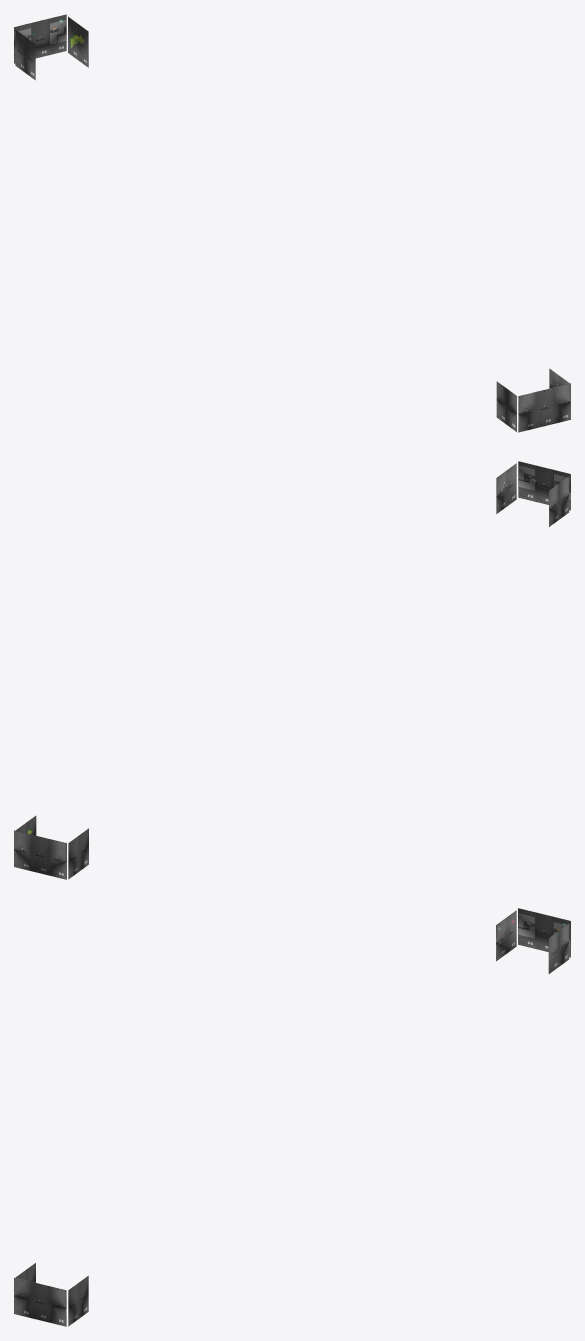
The picture shows the model from 3 angles, top to bottom: view 1: azimuth 30°, elevation 25°; view 2: azimuth 150°, elevation 25°; view 3: azimuth 330°, elevation 25°; orthographic projection.
Parts seen in each view (by area): view 1: Sheet__SheetFenceVinylB, Sheet__SheetFenceVinylA; view 2: Sheet__SheetFenceVinylA, Sheet__SheetFenceVinylB; view 3: Sheet__SheetFenceVinylB, Sheet__SheetFenceVinylA.
Boxes of the visible parts, x1=… form: Sheet__SheetFenceVinylB: x1=14, y1=14, x2=88, y2=80; Sheet__SheetFenceVinylA: x1=496, y1=368, x2=570, y2=432; Sheet__SheetFenceVinylA: x1=496, y1=461, x2=570, y2=526; Sheet__SheetFenceVinylB: x1=14, y1=816, x2=88, y2=879; Sheet__SheetFenceVinylB: x1=496, y1=908, x2=570, y2=973; Sheet__SheetFenceVinylA: x1=14, y1=1263, x2=88, y2=1326.
Size of the model in its own units: 12.29 by 8.17 by 201.
